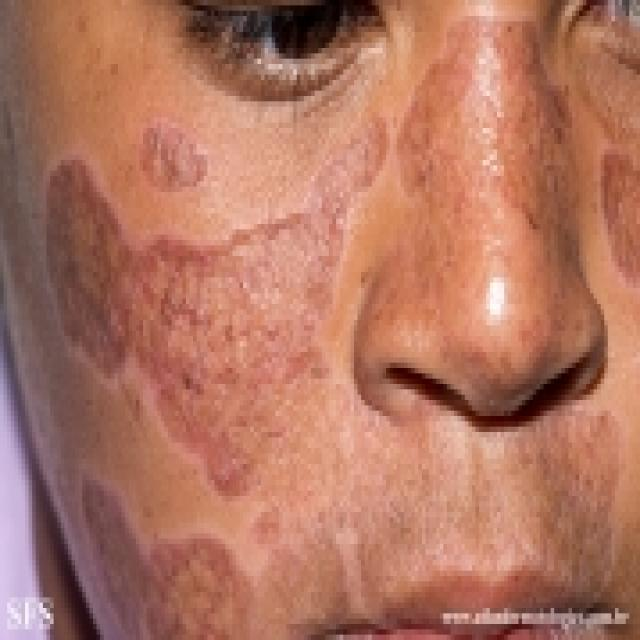lupus: (36, 85, 368, 640)
